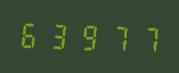nine: (74, 19, 101, 53)
seven: (102, 20, 129, 54), (130, 21, 157, 55)
six: (18, 17, 45, 51)
three: (46, 18, 73, 52)
